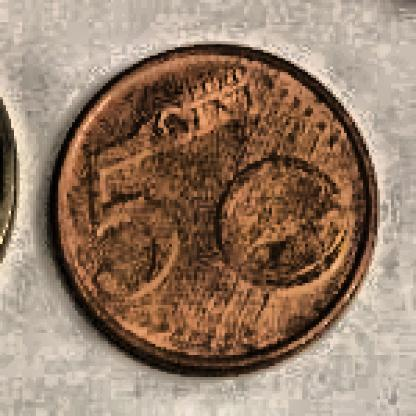coin: (49, 45, 384, 372)
